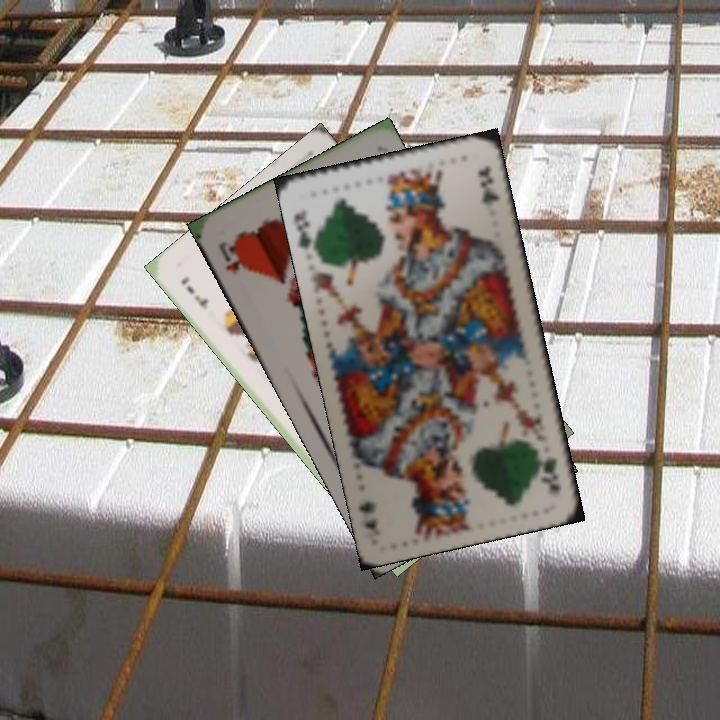E7: (176, 272, 211, 311)
GK: (532, 443, 564, 497), (289, 207, 321, 256)
HO: (214, 237, 251, 278)
